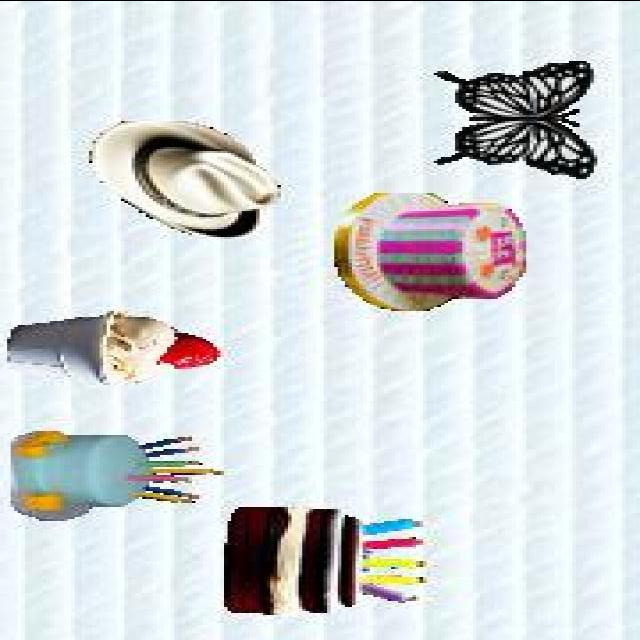Other Objects: (82, 118, 286, 240), (433, 59, 600, 180)
